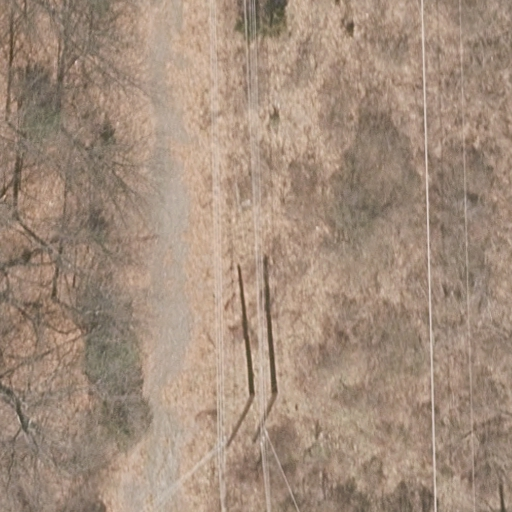TT: (236, 253, 280, 398)
